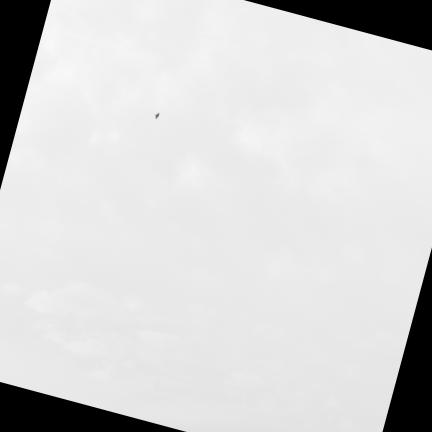Shahed: (153, 113, 159, 118)
